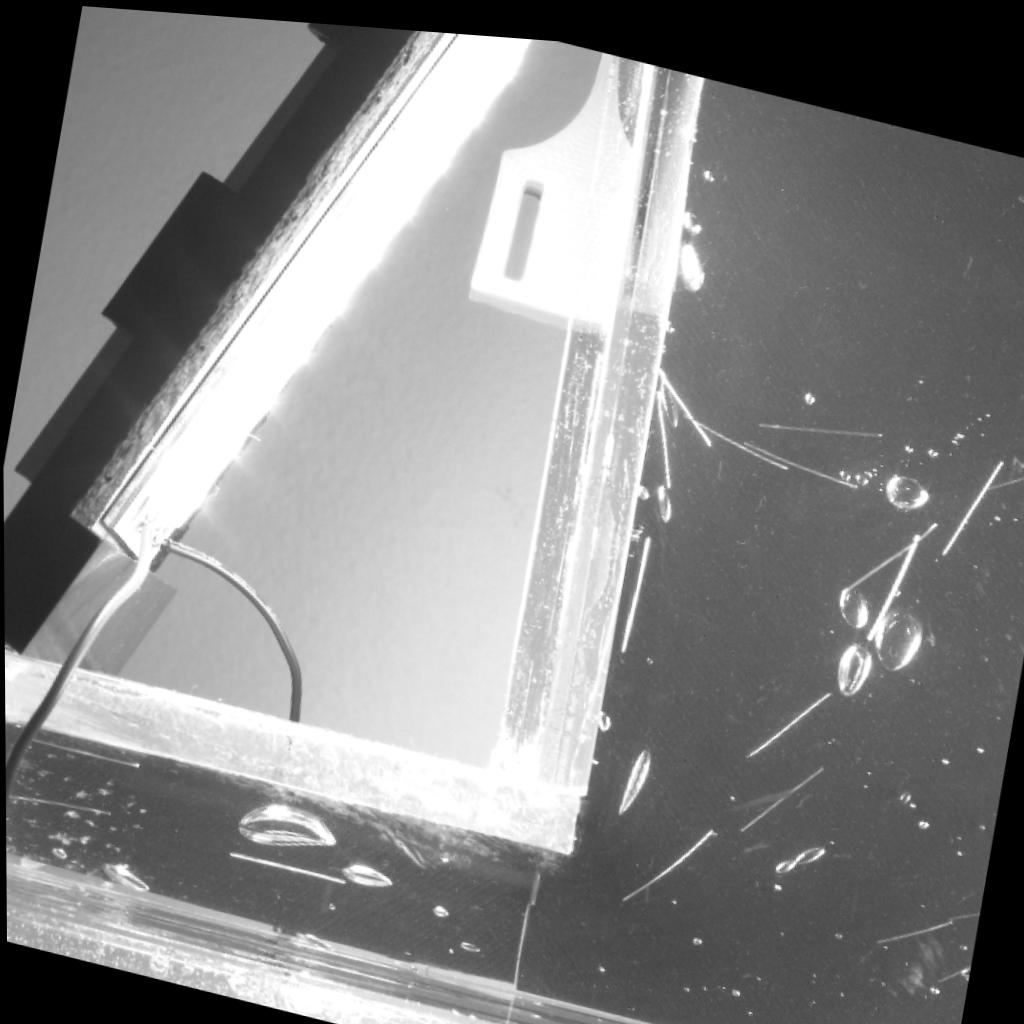Fiber: (613, 814, 718, 901), (838, 503, 940, 590), (935, 440, 1015, 544), (859, 518, 929, 632), (740, 669, 831, 752), (730, 752, 829, 826), (683, 398, 791, 465), (737, 420, 863, 477), (610, 525, 661, 653), (654, 350, 718, 442), (16, 728, 144, 771), (226, 842, 348, 885), (5, 787, 116, 818), (870, 903, 952, 935), (752, 407, 884, 426), (652, 379, 675, 480), (975, 455, 1024, 484), (930, 946, 968, 974), (939, 890, 974, 911)
